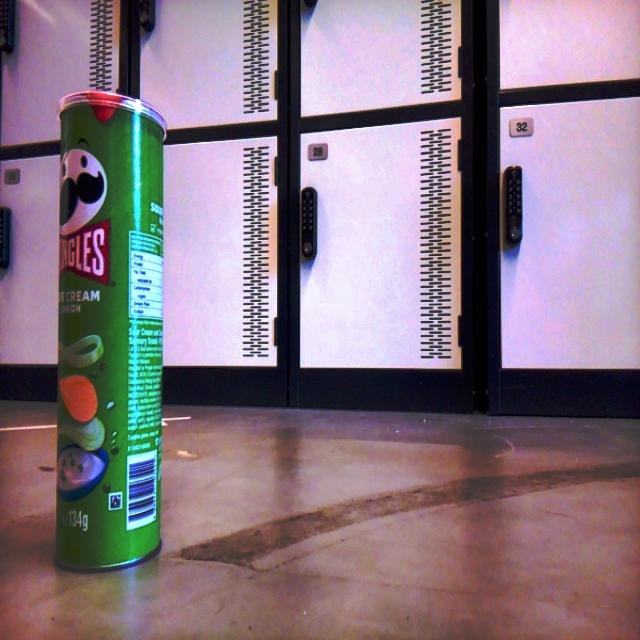greenpringles: (40, 80, 184, 588)
